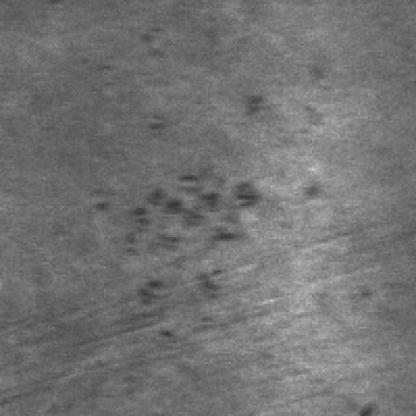rolled-in_scale: (125, 171, 270, 344)
